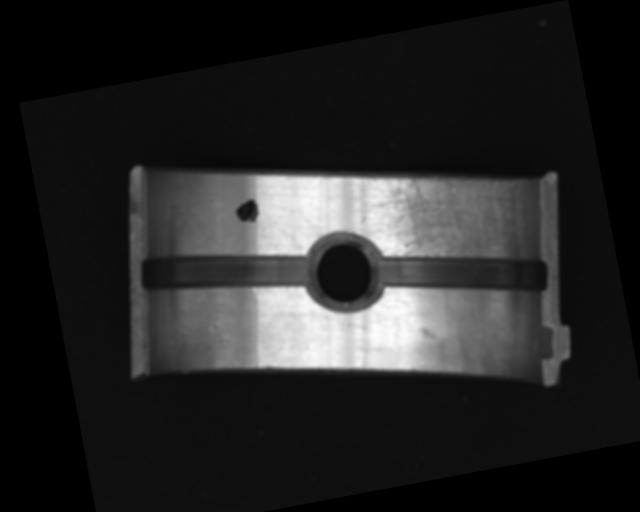blot: (233, 196, 260, 226)
bruise: (417, 324, 437, 343)
gap: (367, 227, 552, 323), (135, 229, 313, 316)
hole: (304, 230, 384, 315)
nick: (251, 282, 284, 347), (300, 206, 322, 242)
scratch: (362, 141, 544, 282)
